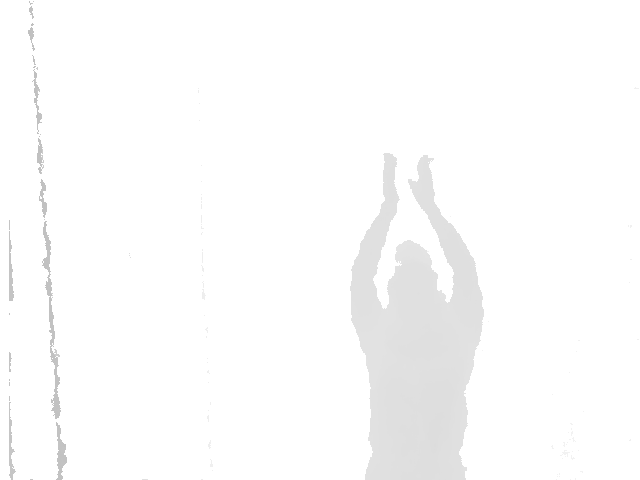hand: (407, 153, 437, 208), (379, 151, 401, 211)
head: (385, 240, 446, 312)
person: (347, 150, 489, 480)
